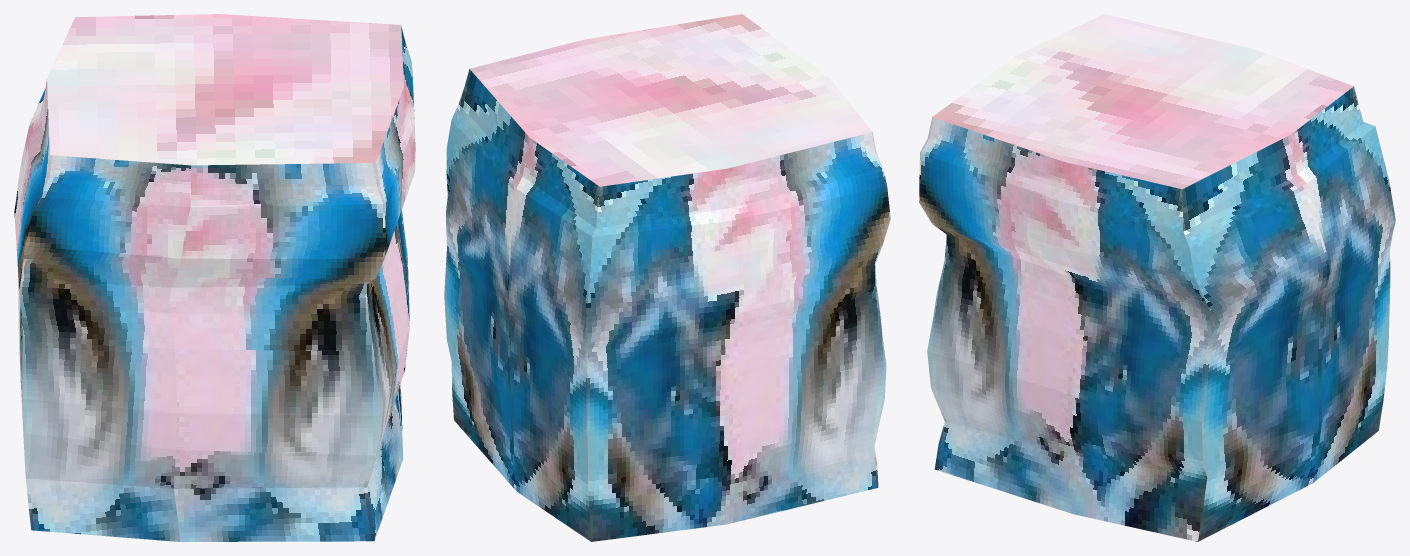
The picture shows the model from 3 angles, left to right: view 1: azimuth 30°, elevation 25°; view 2: azimuth 150°, elevation 25°; view 3: azimuth 270°, elevation 25°; orthographic projection. The views are drawn at different scales.
Parts seen in each view (by area): view 1: SPLICE_2.002; view 2: SPLICE_2.002; view 3: SPLICE_2.002.
Boxes of the visible parts, x1,y1,x2,y2 form: SPLICE_2.002: [14, 14, 415, 541]; SPLICE_2.002: [444, 14, 890, 541]; SPLICE_2.002: [919, 14, 1395, 541].
Bounding box in the file's own units: 1.36 × 1.14 × 1.4.
1 material, 1 textured.
